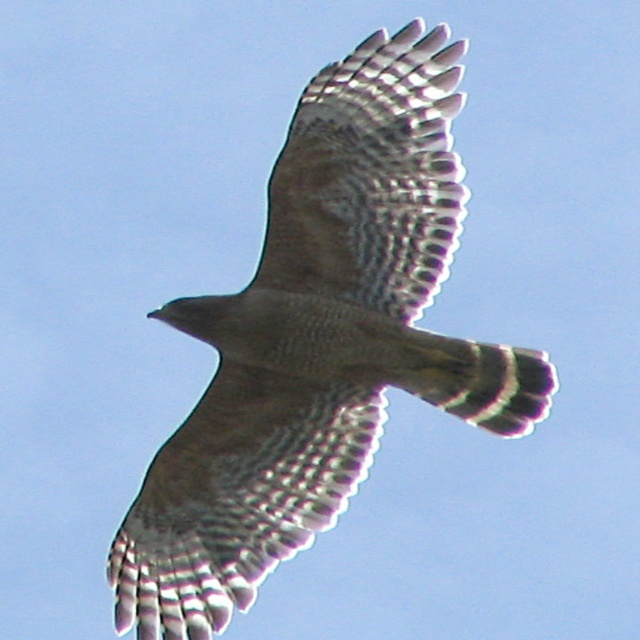Eagle: (105, 16, 558, 640)
